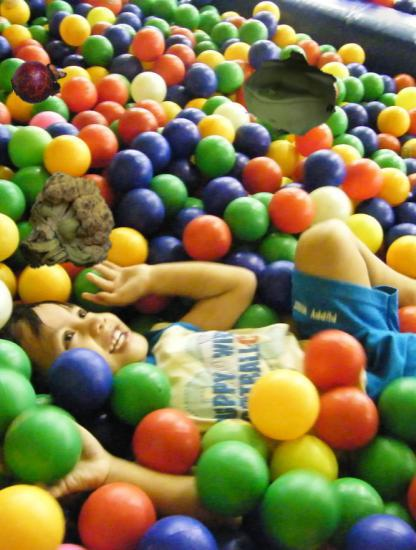Cauliflower: (13, 172, 116, 275)
Kohlrabi: (242, 48, 339, 145)
Mangostan: (12, 53, 68, 109)
